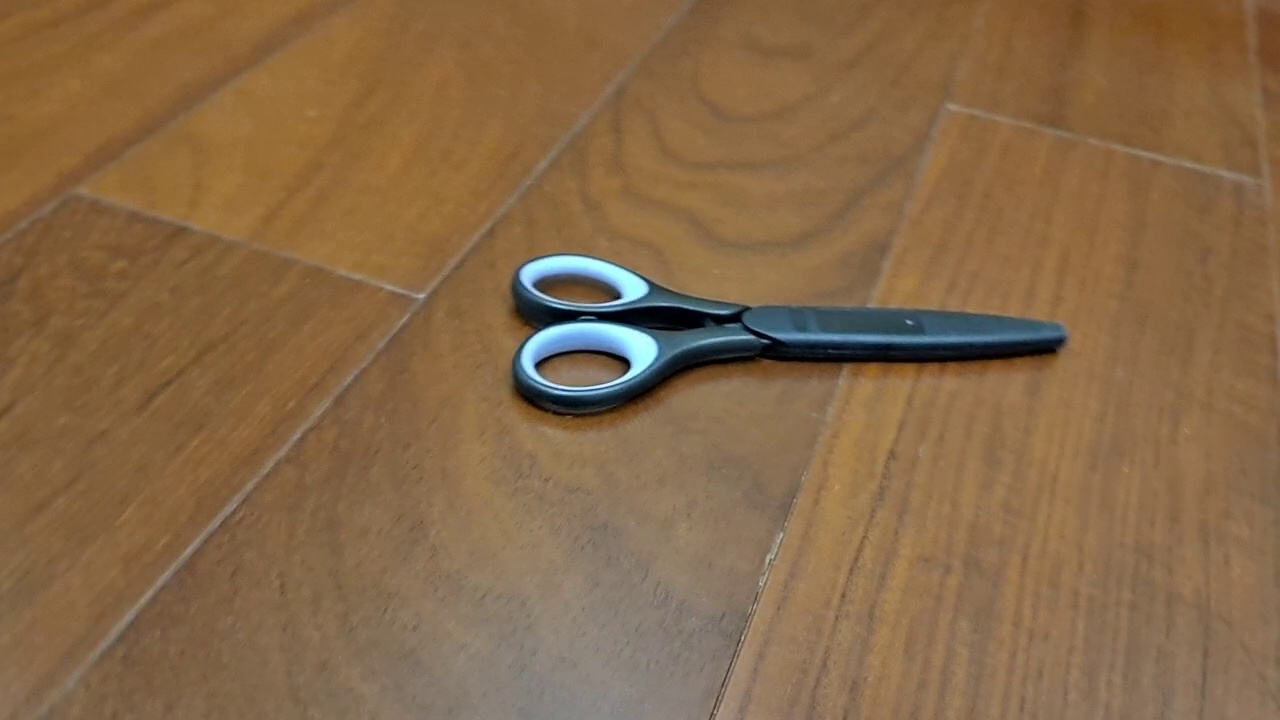scissors: (507, 252, 1069, 417)
